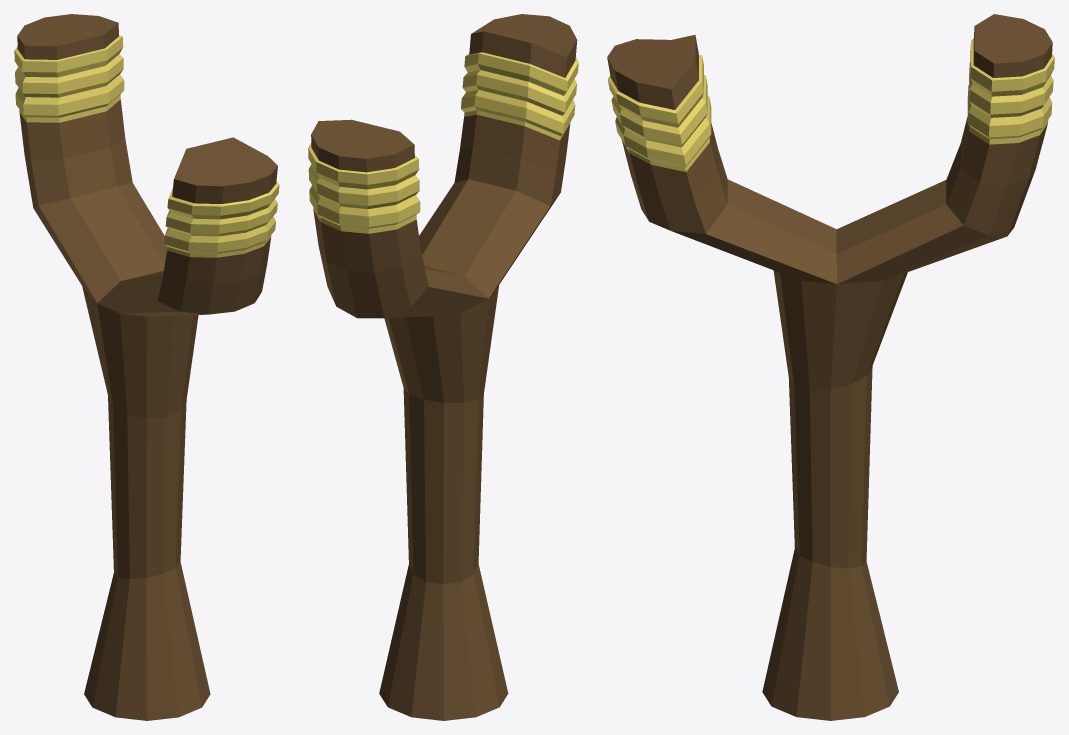
The model's file is AngryBirdSling.fbx.
3 views of the same model, side by side, from view 1: azimuth 30°, elevation 25°; view 2: azimuth 150°, elevation 25°; view 3: azimuth 270°, elevation 25° (orthographic). The views are drawn at different scales.
Parts seen in each view (by area): view 1: Cylinder; view 2: Cylinder; view 3: Cylinder.
Boxes of the visible parts, bbox=[...] form: Cylinder: bbox=[14, 14, 279, 720]; Cylinder: bbox=[308, 14, 578, 720]; Cylinder: bbox=[607, 14, 1054, 720].
Bounding box in the file's own units: 56.96 × 300 × 187.
